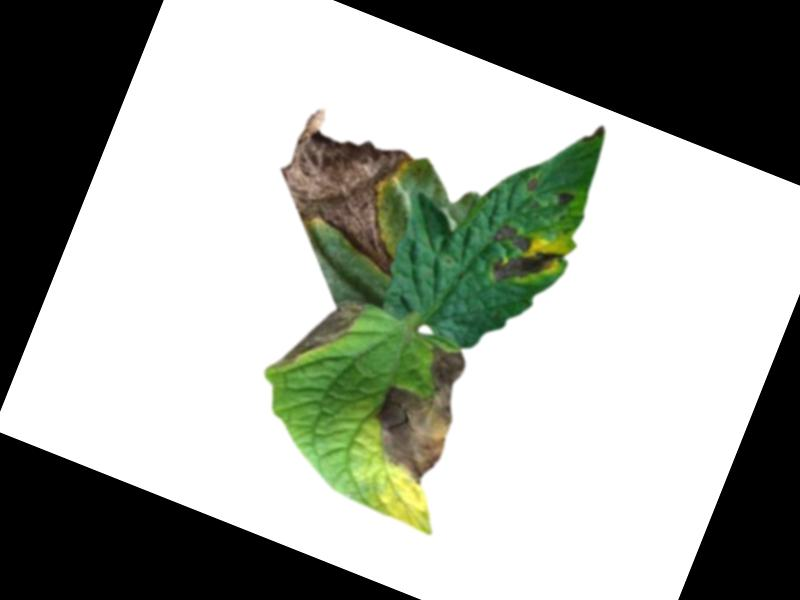Early_blight: (258, 101, 440, 278), (354, 328, 481, 488), (272, 281, 368, 393), (477, 221, 568, 303), (579, 119, 607, 148), (553, 189, 578, 212), (524, 175, 543, 193)
